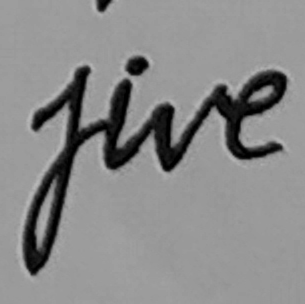e: (225, 65, 290, 166)
i: (98, 51, 152, 174)
j: (16, 60, 97, 281)
v: (146, 83, 225, 174)
